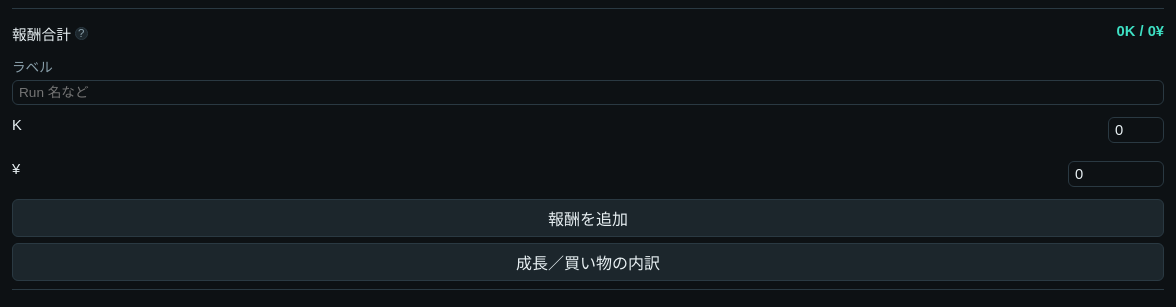
Test: <SidebarCareerRewards> › adds a reward and clears the fields it was typed into
Type "  Milk run  " into the field at [588, 92], box top-left (12, 80), bottom-right (1164, 105)
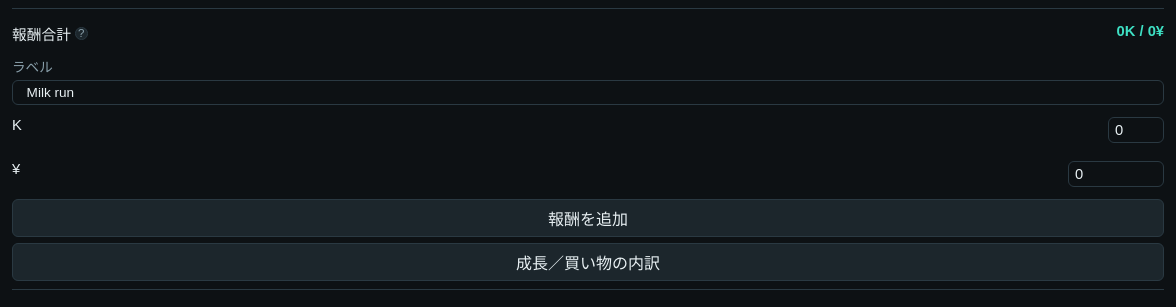
Replace the text in the number field named "カルマ" with "5" at [1136, 130], box top-left (1108, 117), bottom-right (1164, 143)
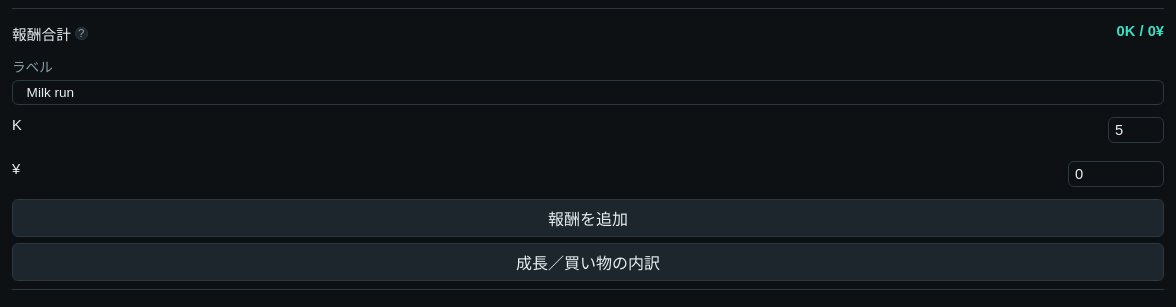
Replace the text in the number field named "新円" with "4000" at [1116, 174], box top-left (1068, 161), bottom-right (1164, 187)
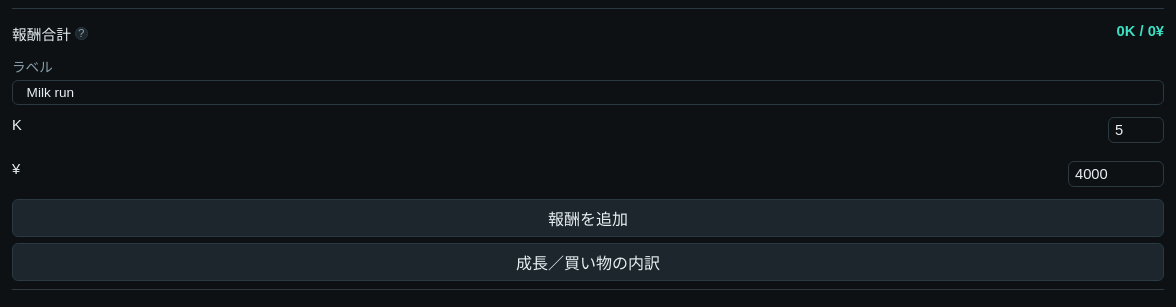
Click the button "報酬を追加" at [588, 218], box top-left (12, 199), bottom-right (1164, 237)
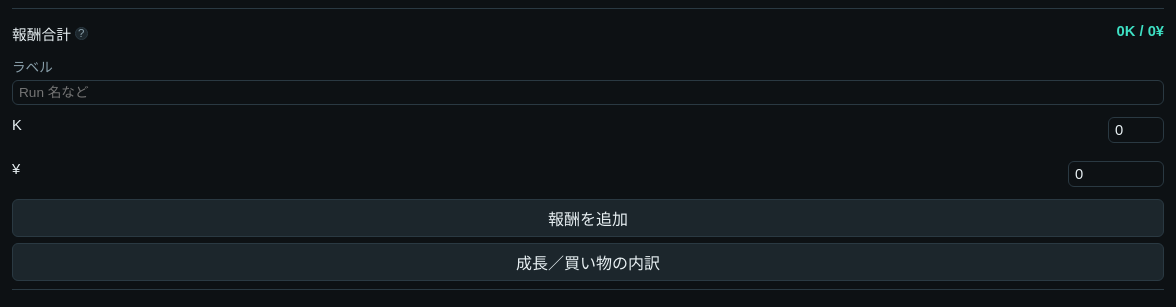
Expected: the field is empty, top-left (12, 80), bottom-right (1164, 105)
Expected: the number field named "カルマ" holds "0", top-left (1108, 117), bottom-right (1164, 143)
Expected: the number field named "新円" holds "0", top-left (1068, 161), bottom-right (1164, 187)
